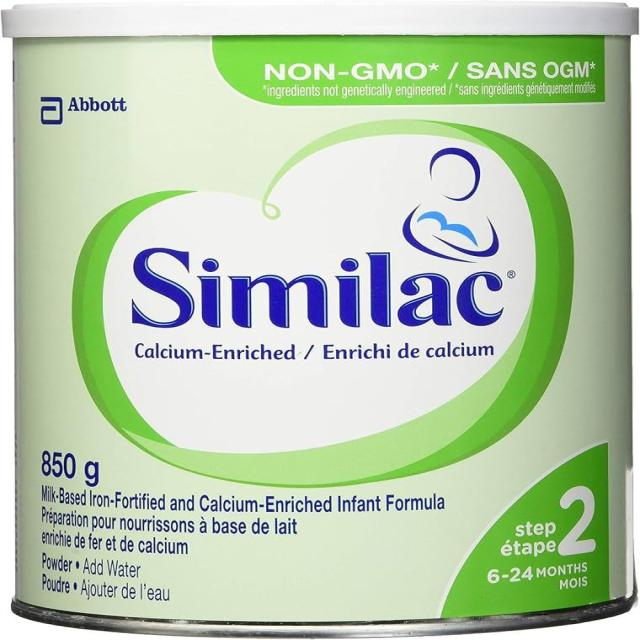formula-milk: (19, 42, 625, 622)
